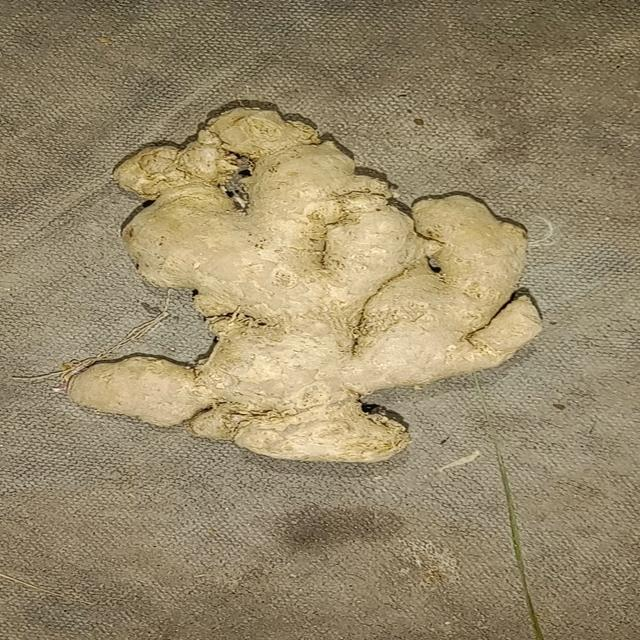ginger: (66, 98, 538, 467)
